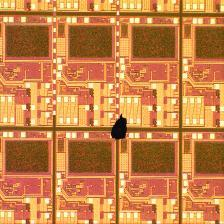PARTICLE: (111, 114, 128, 142)
